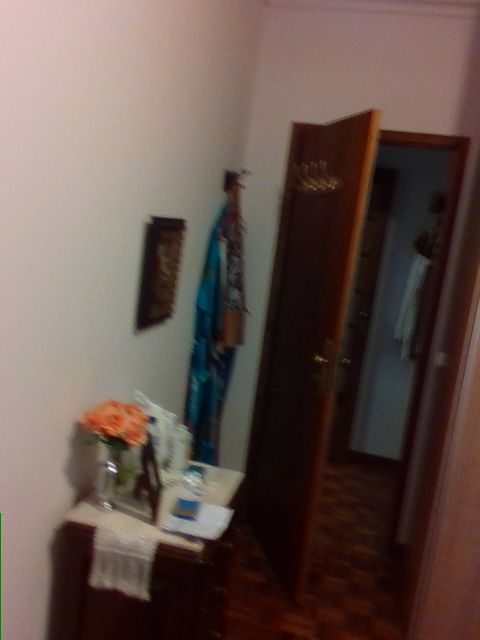semi: (236, 109, 472, 614)
